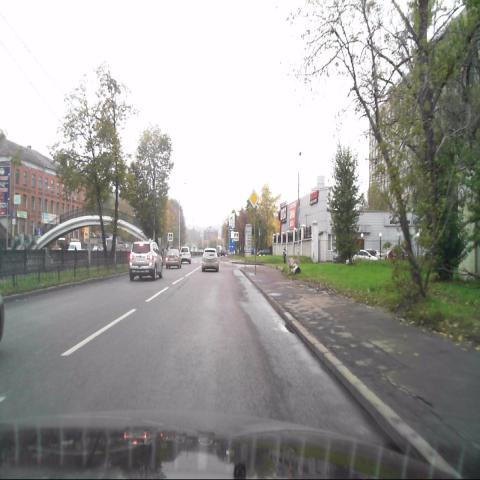2_1: (248, 189, 259, 208)
